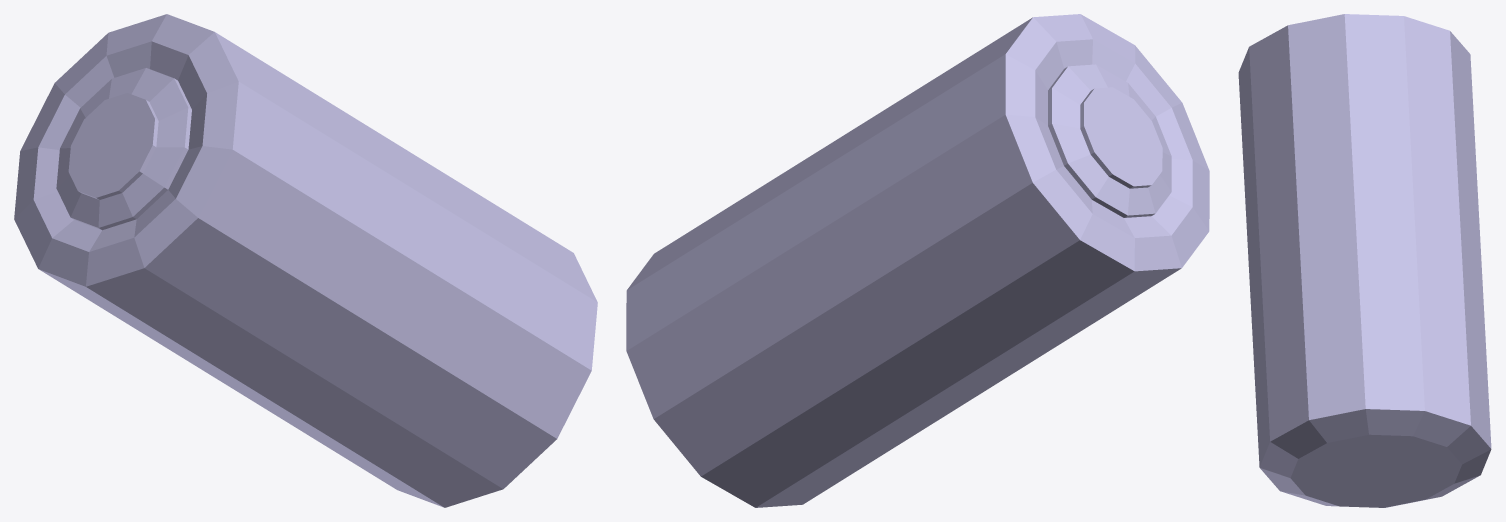
The model's file is Baterai 1.fbx.
3 views of the same model, side by side, from view 1: azimuth 30°, elevation 25°; view 2: azimuth 150°, elevation 25°; view 3: azimuth 270°, elevation 25° (orthographic). The views are drawn at different scales.
Parts seen in each view (by area): view 1: Cylinder; view 2: Cylinder; view 3: Cylinder.
Part boxes in pixels (<box>): Cylinder: <box>14,14,597,507</box>; Cylinder: <box>626,14,1209,507</box>; Cylinder: <box>1238,14,1491,507</box>.
Size of the model in its own units: 250 by 235 by 130.
